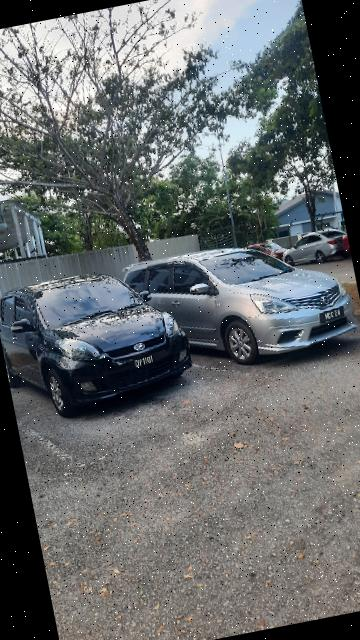License_Plate: (318, 305, 351, 327), (131, 352, 162, 371)
car: (121, 221, 360, 392), (1, 255, 200, 425)
